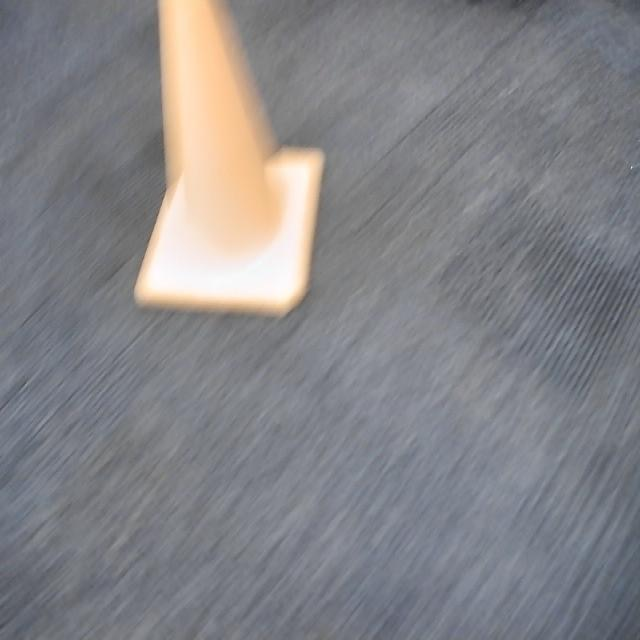cone: (130, 0, 328, 318)
